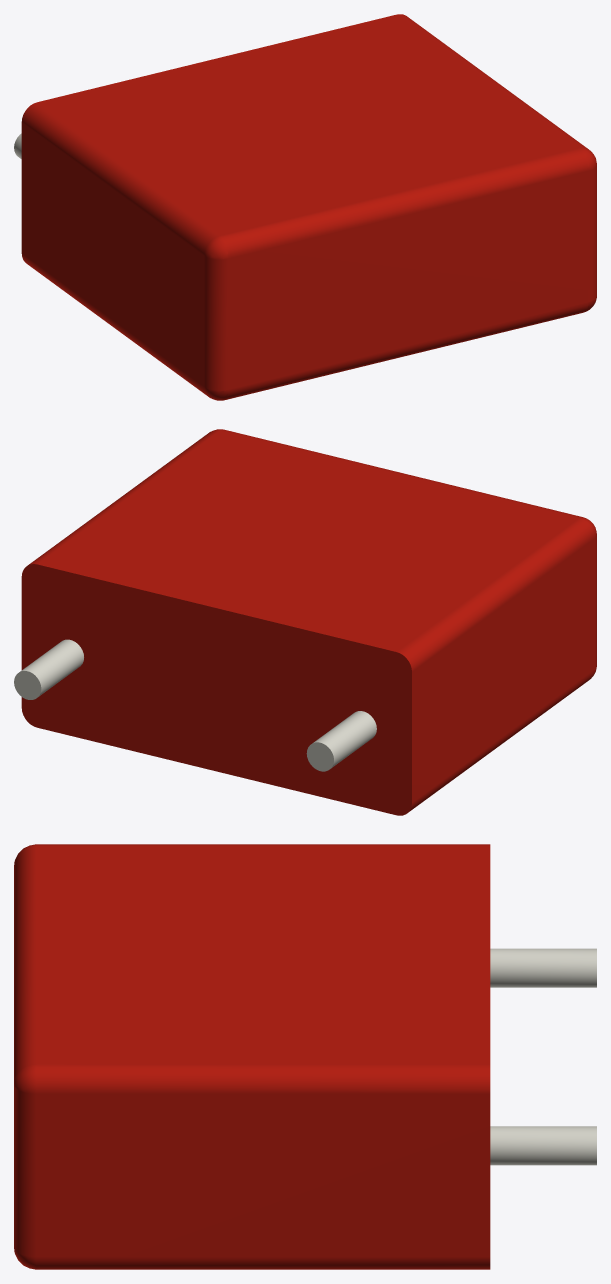
The model's file is c-rect-l10.0-w4.0-p7.50-fks3-fkp3.glb.
3 views of the same model, one above another, from view 1: azimuth 30°, elevation 25°; view 2: azimuth 150°, elevation 25°; view 3: azimuth 270°, elevation 25° (orthographic). The views are drawn at different scales.
Parts seen in each view (by area): view 1: RED-BODY; view 2: RED-BODY, PIN-01; view 3: RED-BODY, PIN-01.
Part boxes in pixels (x1,y1,x2,y2): RED-BODY: (21,14,596,400); RED-BODY: (21,429,596,815); PIN-01: (14,639,376,771); RED-BODY: (14,844,490,1269); PIN-01: (490,948,596,1165).
Size of the model in its own units: 10 by 4 by 10.4.
